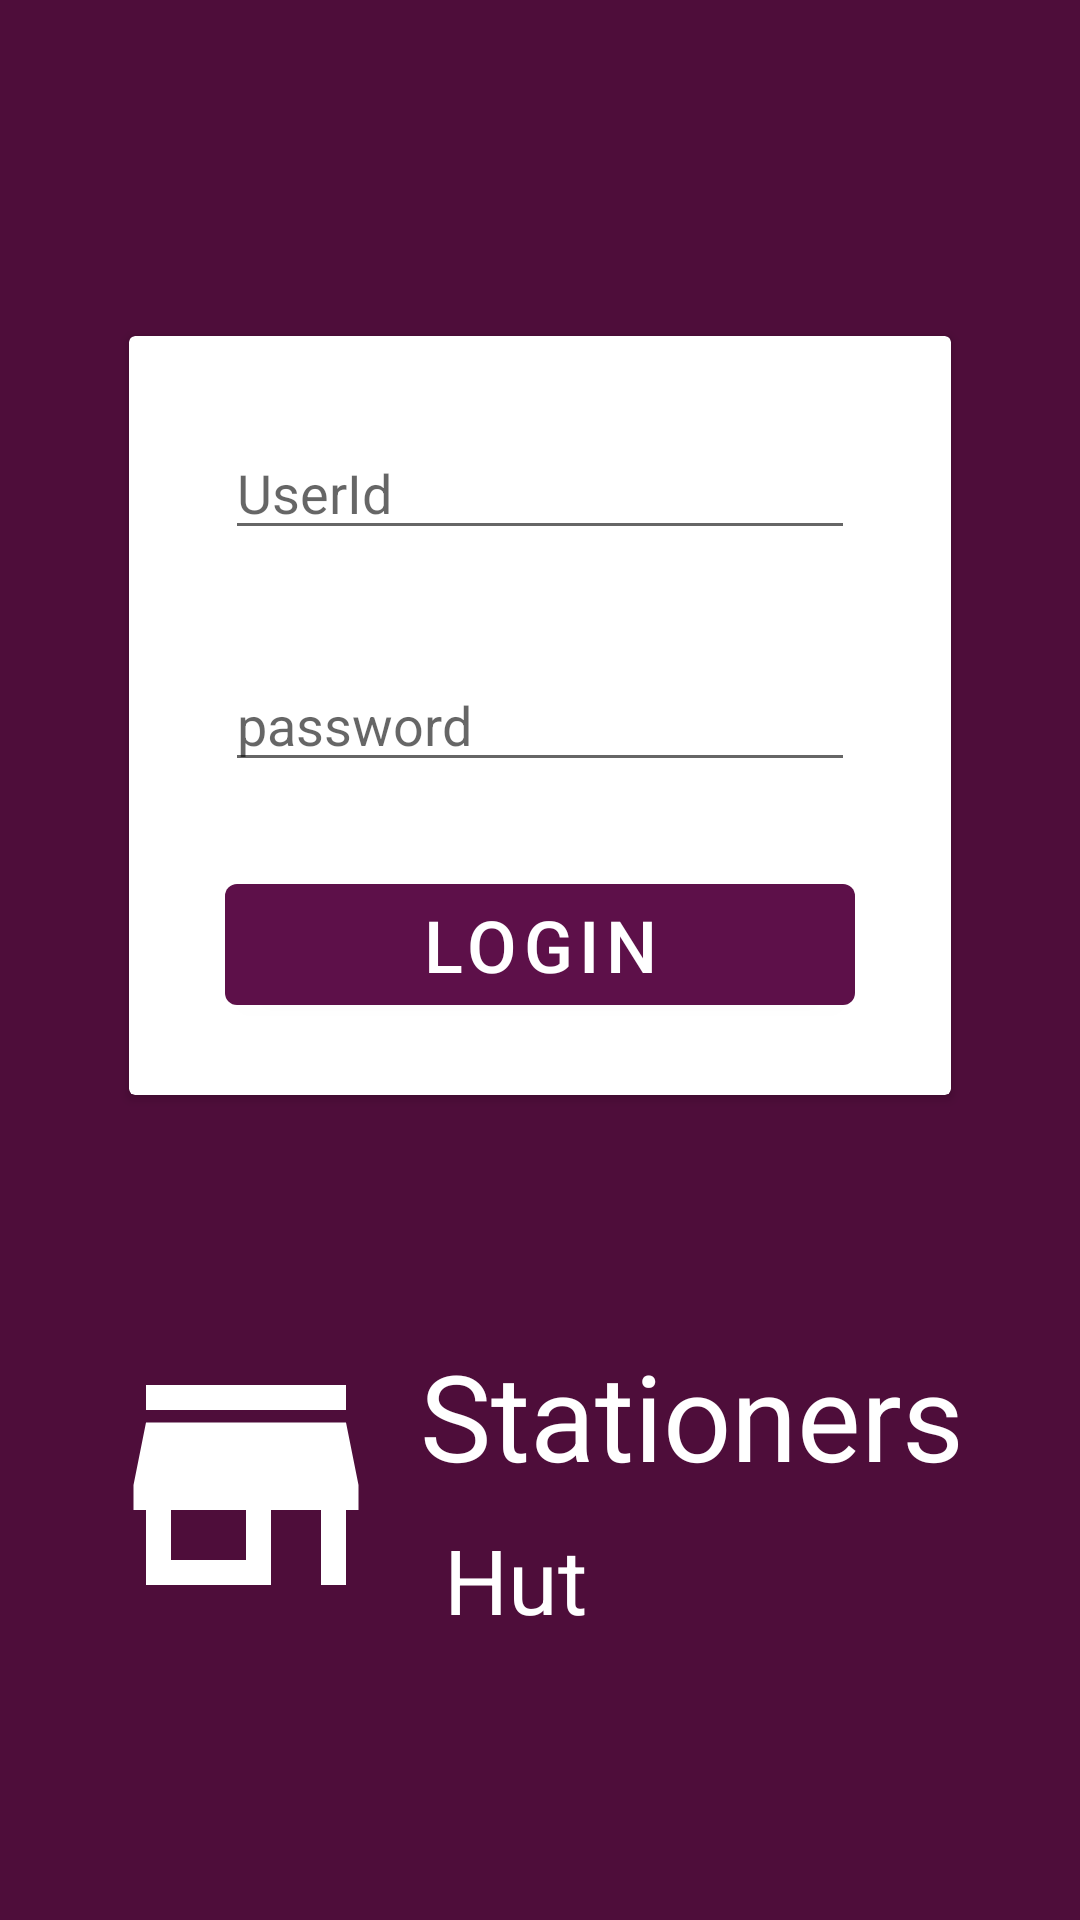

Screen size 1080px x 1920px. Icon name, then its center in pixels as [x,y]:
store four: [246,1485]
